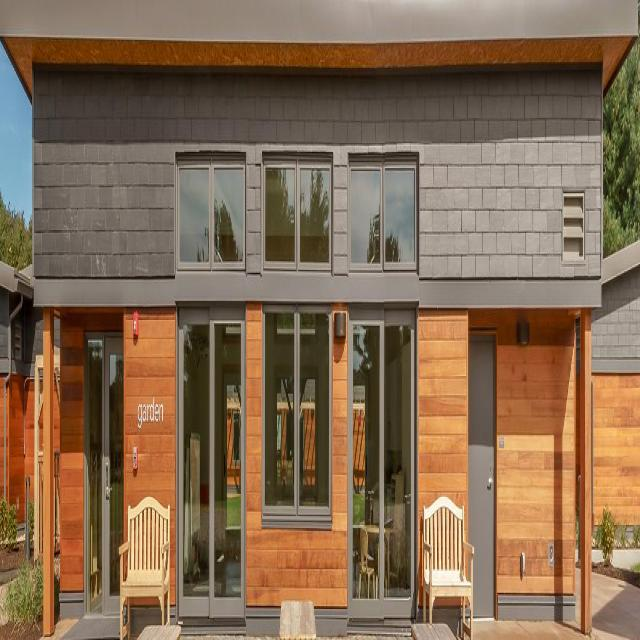door: (178, 316, 246, 618), (349, 316, 414, 618), (84, 340, 124, 615), (470, 335, 497, 613)
wall: (1, 0, 640, 639)
windows: (262, 312, 334, 534), (264, 162, 333, 283), (178, 165, 247, 284), (349, 168, 418, 270)
